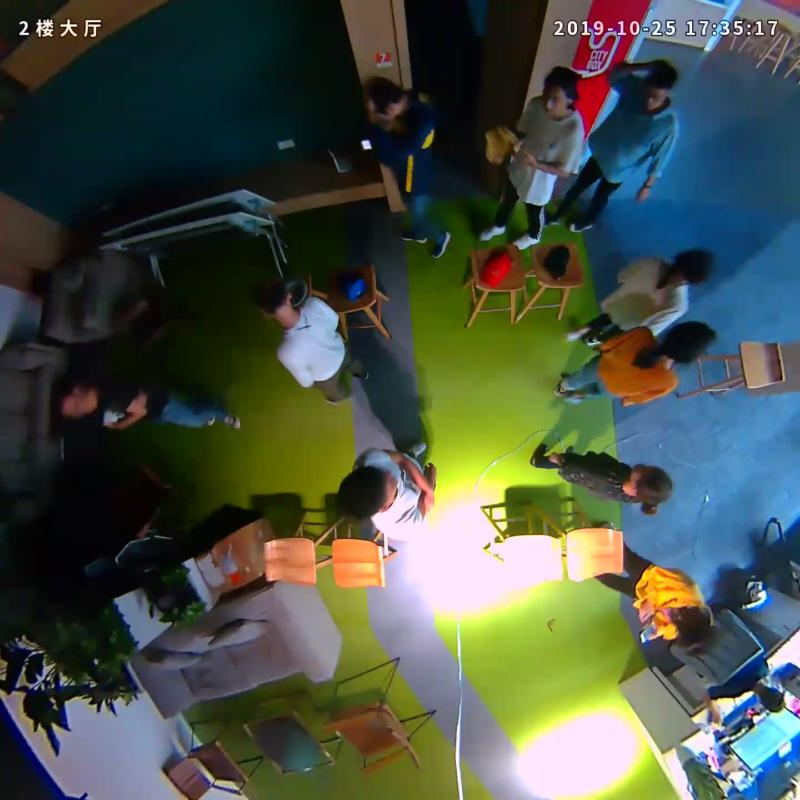head: (338, 465, 399, 520), (661, 321, 716, 366), (48, 377, 96, 421), (678, 607, 719, 658), (362, 77, 404, 124), (630, 462, 675, 505), (542, 67, 581, 115), (252, 275, 293, 320), (639, 67, 678, 114), (669, 249, 714, 285)
